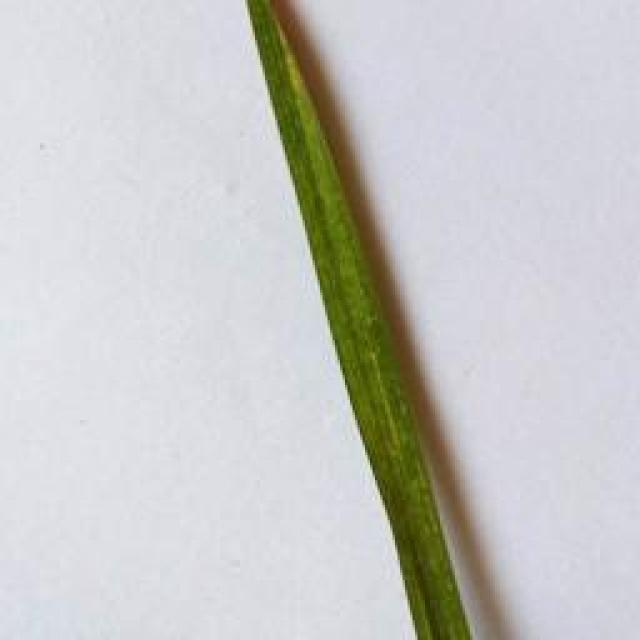Bacterial_Blight: (266, 0, 322, 128)
